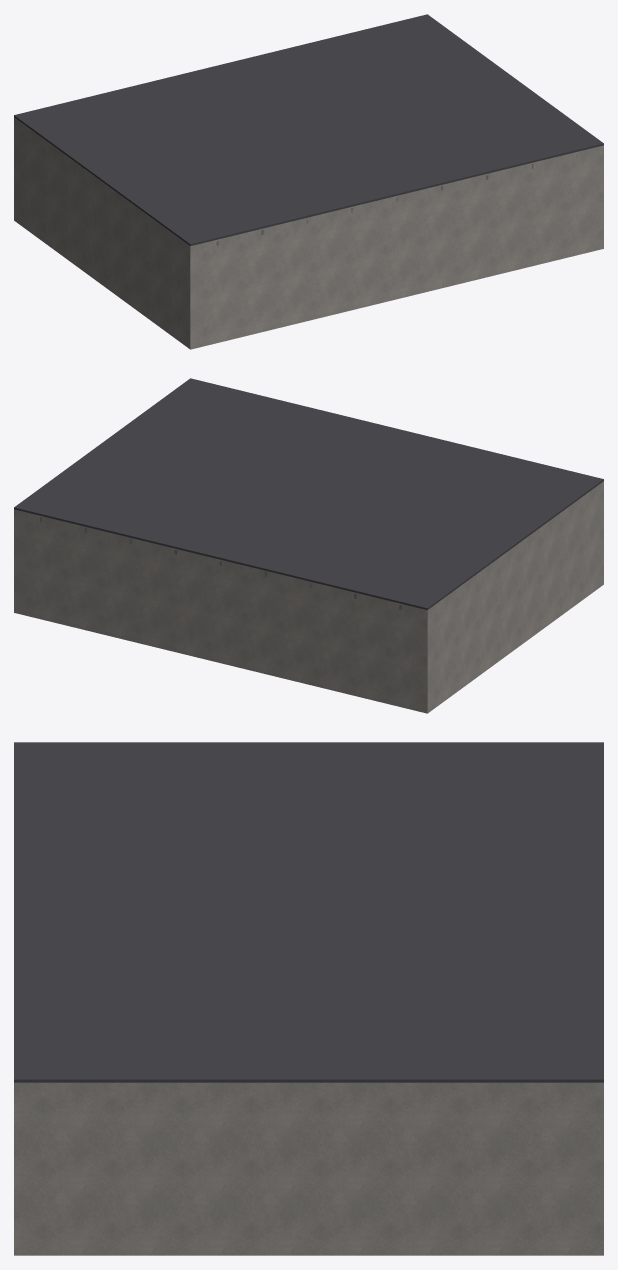
The model's file is the_lab.glb.
3 renders of one model, top to bottom at view 1: azimuth 30°, elevation 25°; view 2: azimuth 150°, elevation 25°; view 3: azimuth 270°, elevation 25°, orthographic. The views are drawn at different scales.
Parts seen in each view (by area): view 1: Ceiling, Wall_S, Wall_W; view 2: Ceiling, Wall_N, Wall_W; view 3: Ceiling, Wall_E.
Boxes of the visible parts, left/top/right/bottom form: Ceiling: left=14, top=14, right=603, bottom=245; Wall_S: left=190, top=145, right=603, bottom=349; Wall_W: left=14, top=117, right=190, bottom=348; Ceiling: left=14, top=378, right=603, bottom=609; Wall_N: left=14, top=509, right=427, bottom=713; Wall_W: left=427, top=481, right=603, bottom=712; Ceiling: left=14, top=742, right=603, bottom=1082; Wall_E: left=14, top=1082, right=603, bottom=1255.
Size of the model in its own units: 46 by 11.23 by 34.
Materials: 28 (10 with a texture image).
